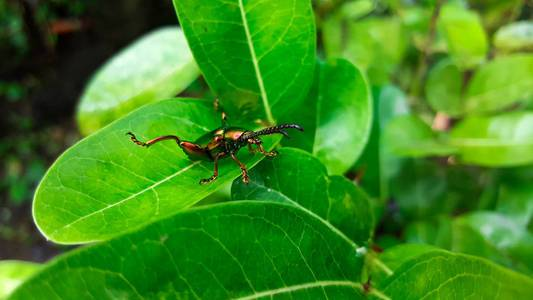Curculionidae: (125, 97, 305, 187)
